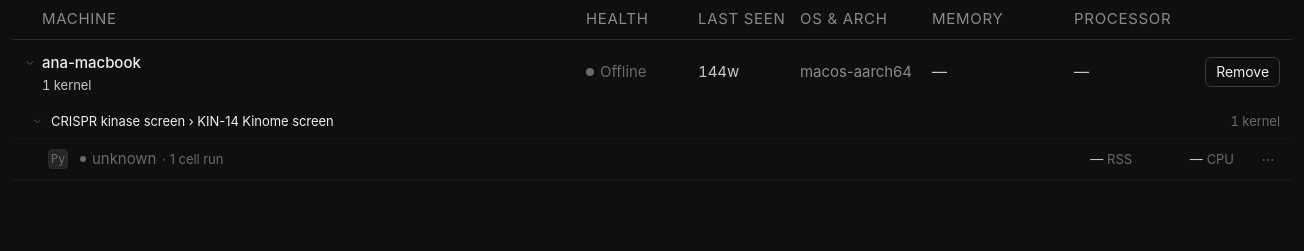
Test: offers no lifecycle control for a kernel on a machine that is not answering
Click the button named "Actions for the Py kernel": (1268, 159) [1256,147,1280,171]
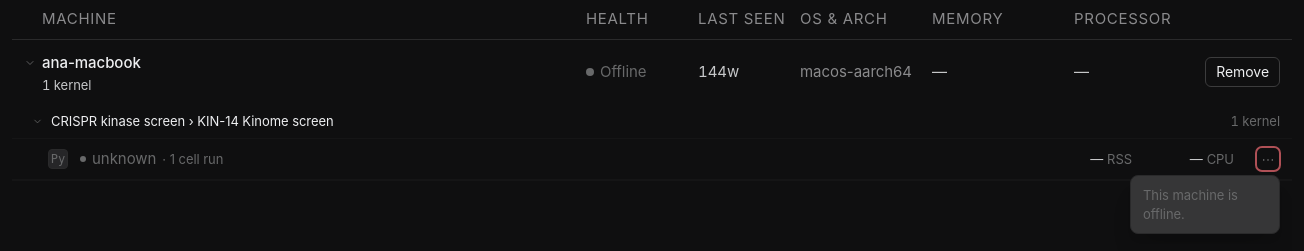
Expected: the text "This machine is offline." is shown, [1143,187,1238,222]
